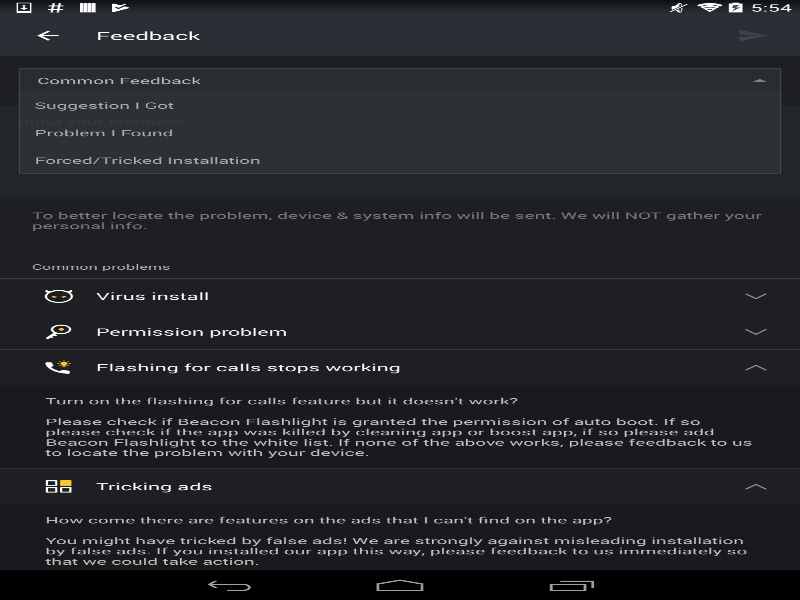Input: (0, 105, 800, 199)
